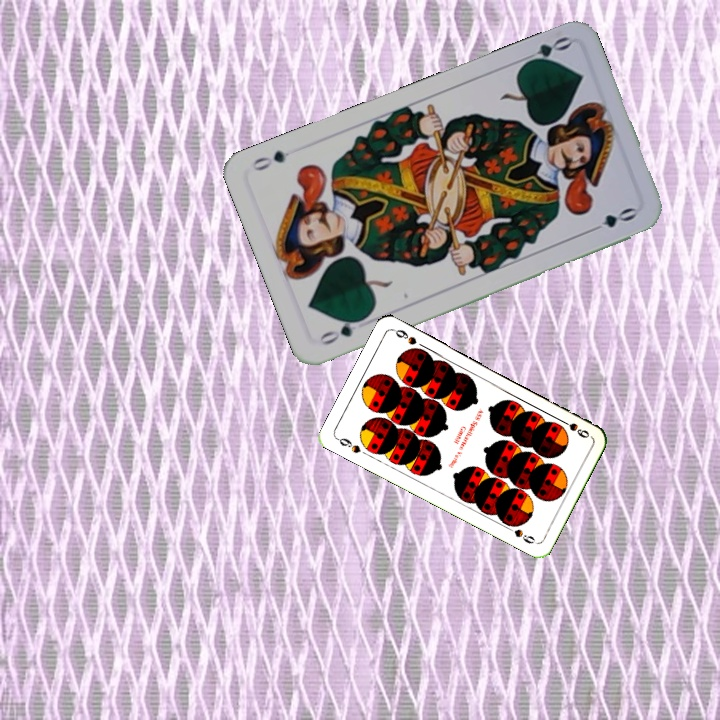GO: (515, 32, 573, 69), (314, 313, 369, 348)
S9: (555, 415, 592, 441), (332, 434, 363, 456)
